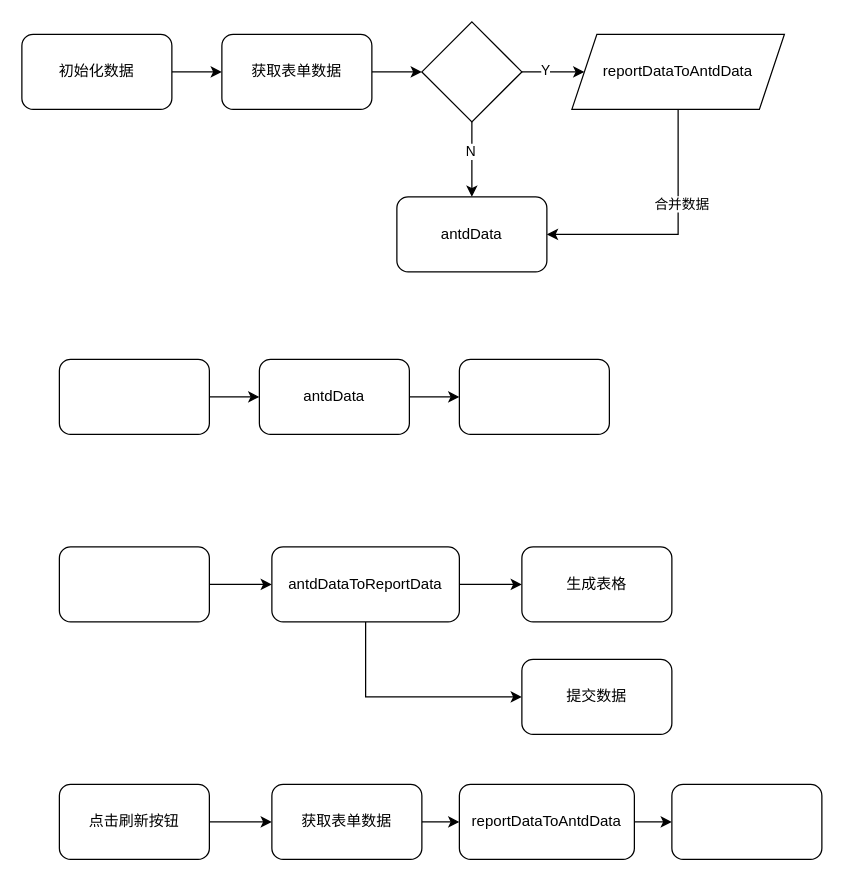
This 844x881 diagram has some shape labels left out. The box of each missing label's shape, as (x1, y1, x2, y2) in pixels:
合并初始值: (671, 783, 822, 859)
是否有数据: (421, 21, 522, 122)
本地保存: (458, 358, 609, 434)
点击上报记录: (58, 546, 209, 622)
点击保存数据: (58, 358, 209, 434)
